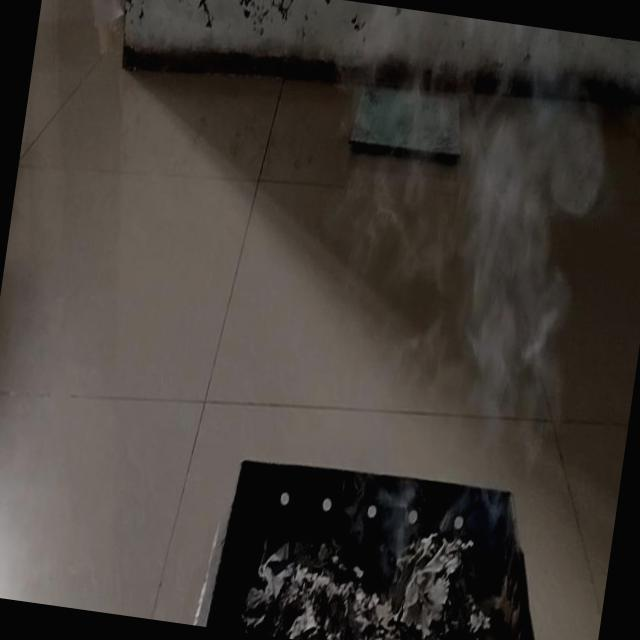smoke: (362, 17, 618, 564)
